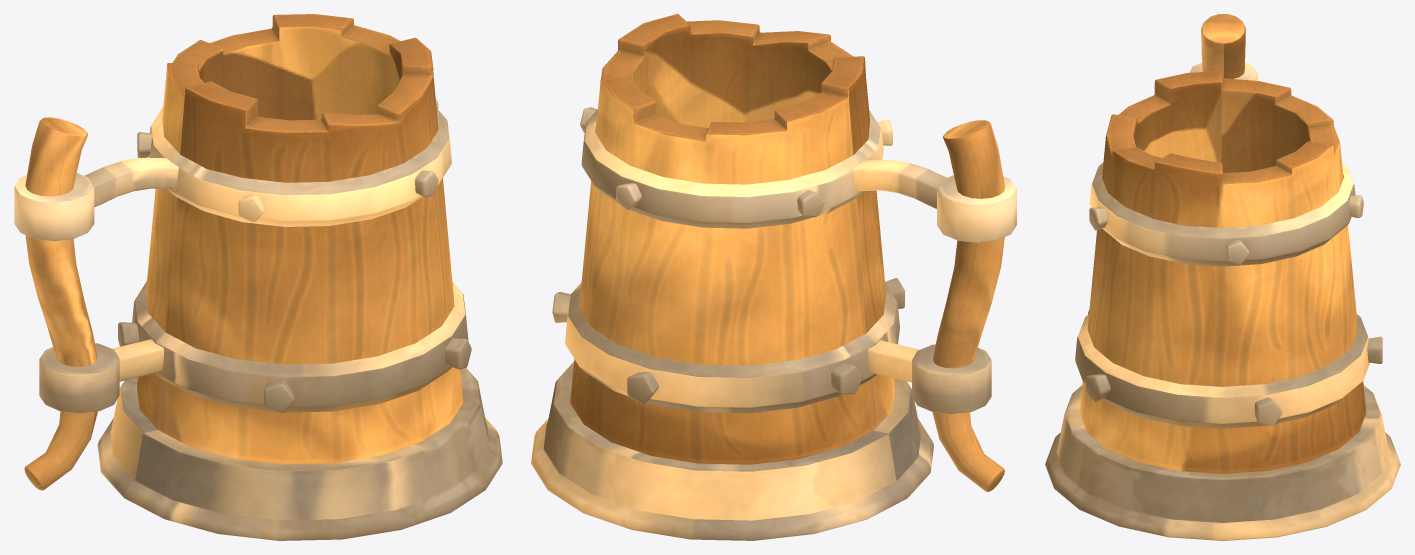
The model's file is SM_Mug.fbx.
3 views of the same model, side by side, from view 1: azimuth 30°, elevation 25°; view 2: azimuth 150°, elevation 25°; view 3: azimuth 270°, elevation 25° (orthographic). The views are drawn at different scales.
Parts seen in each view (by area): view 1: SM_Mug_LOD0; view 2: SM_Mug_LOD0; view 3: SM_Mug_LOD0.
Part boxes in pixels (box(x1,y1,x2,y2)): SM_Mug_LOD0: box(14, 14, 502, 540); SM_Mug_LOD0: box(531, 14, 1016, 540); SM_Mug_LOD0: box(1045, 14, 1400, 540).
Size of the model in its own units: 19.7 by 15.21 by 16.37.
